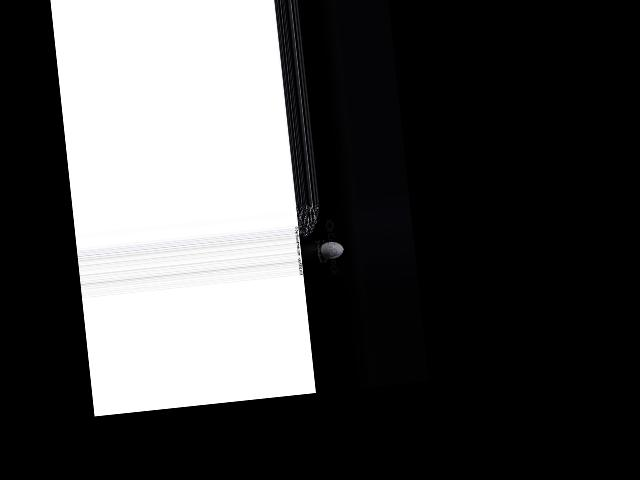egg: (318, 240, 343, 260)
